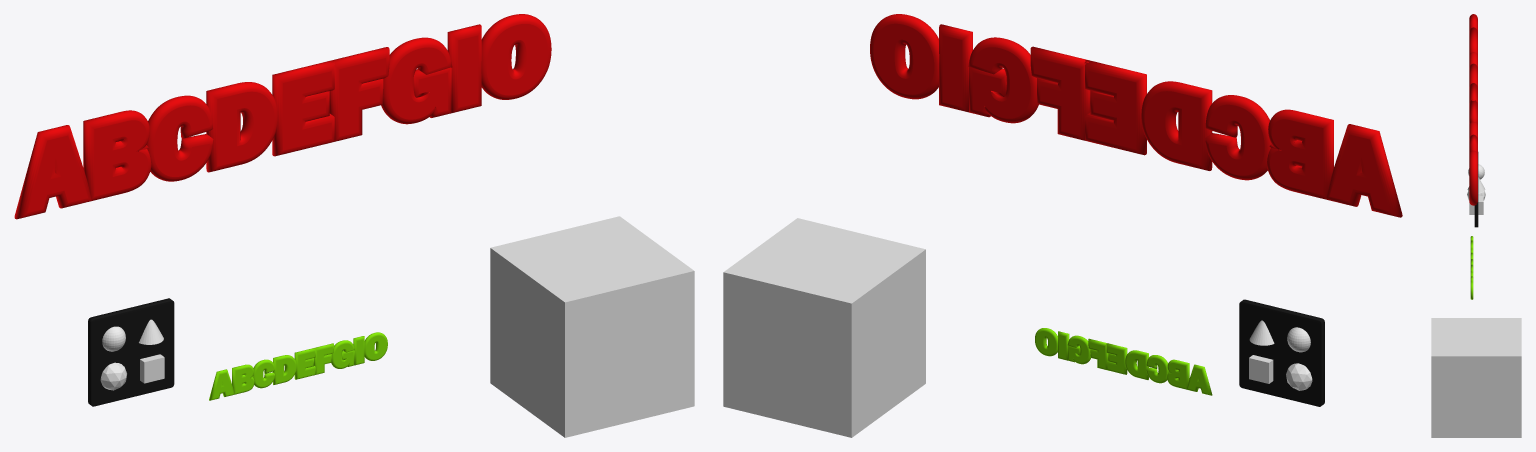
Rendered from oasobi.glb.
3 views of the same model, side by side, from view 1: azimuth 30°, elevation 25°; view 2: azimuth 150°, elevation 25°; view 3: azimuth 270°, elevation 25° (orthographic). The views are drawn at different scales.
Parts seen in each view (by area): view 1: text2, ttt, Cube, text1; view 2: text2, ttt, Cube, text1; view 3: ttt, text2, text1, Cube.001, Cube.
Boxes of the visible parts, <box> form: text2: <box>14,14,551,219</box>; ttt: <box>490,216,694,437</box>; Cube: <box>88,298,174,406</box>; text1: <box>209,332,387,400</box>; text2: <box>870,14,1402,217</box>; ttt: <box>723,218,925,437</box>; Cube: <box>1239,299,1324,406</box>; text1: <box>1035,328,1212,395</box>; ttt: <box>1431,318,1521,437</box>; text2: <box>1469,14,1477,205</box>; text1: <box>1470,236,1473,299</box>; Cube.001: <box>1469,196,1483,214</box>; Cube: <box>1474,152,1478,227</box>.
Size of the model in its own units: 15.48 by 9.2 by 3.11.
